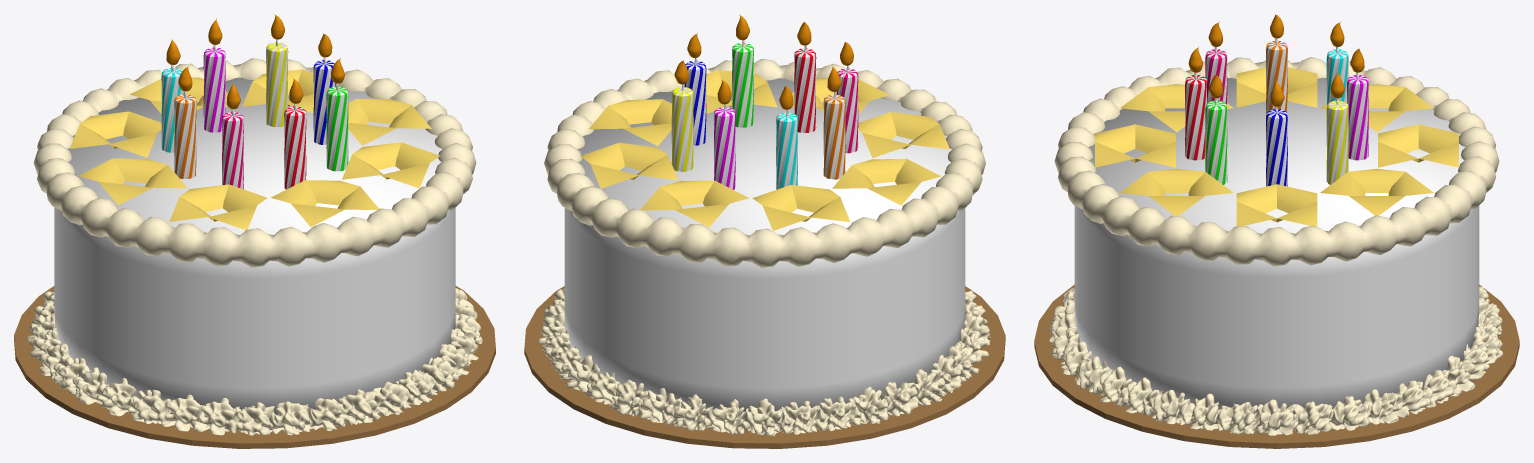
File: cake.glb
The picture shows the model from 3 angles, left to right: view 1: azimuth 30°, elevation 25°; view 2: azimuth 150°, elevation 25°; view 3: azimuth 270°, elevation 25°; orthographic projection.
Visible parts, largest first — view 1: Icosphere; view 2: Icosphere; view 3: Icosphere.
Part boxes in pixels (x1,y1,x2,y2): Icosphere: [14, 14, 495, 448]; Icosphere: [524, 14, 1005, 448]; Icosphere: [1034, 14, 1519, 448].
Size of the model in its own units: 2.4 by 1.64 by 2.4.
